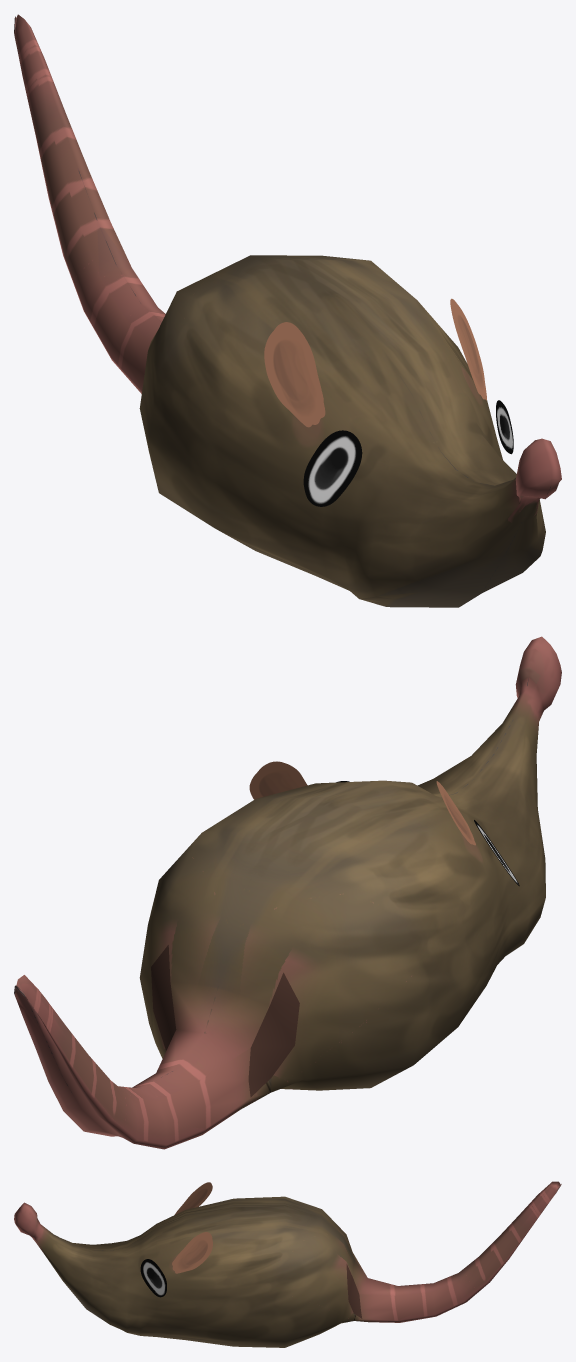
File: Rat_V3.fbx
3 renders of one model, top to bottom at view 1: azimuth 30°, elevation 25°; view 2: azimuth 150°, elevation 25°; view 3: azimuth 270°, elevation 25°, orthographic. The views are drawn at different scales.
Visible parts, largest first — view 1: Rat_V3; view 2: Rat_V3; view 3: Rat_V3.
Boxes of the visible parts, <box> form: Rat_V3: <box>14,14,561,607</box>; Rat_V3: <box>14,636,561,1149</box>; Rat_V3: <box>14,1181,561,1347</box>.
Size of the model in its own units: 258 by 266 by 876.
